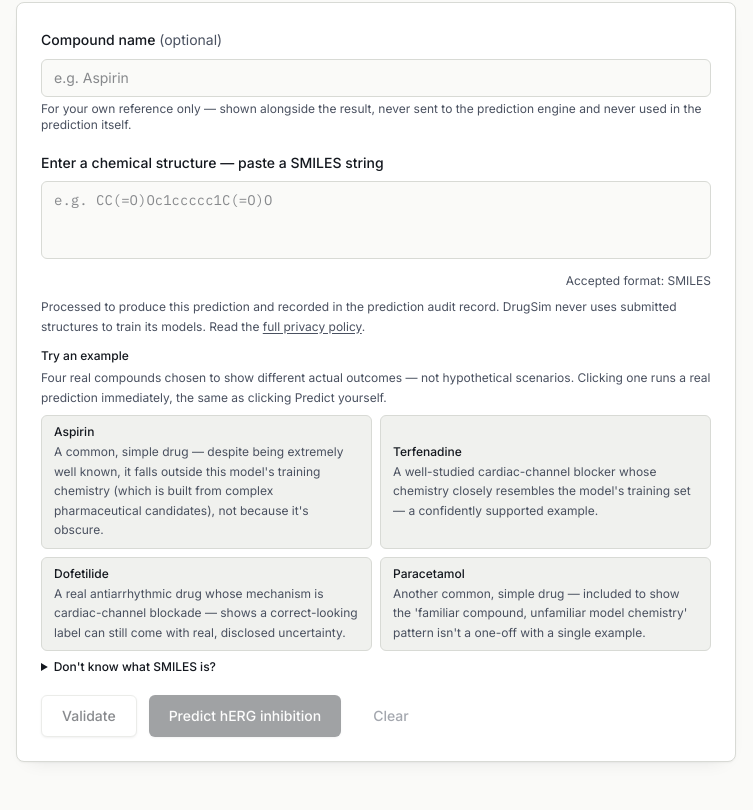
Test: PredictPage › clicking an example runs a real prediction immediately -- no extra Validate/Predict clicks needed
(page scrolled)
Click the button with aria-label "A common, simple drug — despite being extremely well known," at (206, 482), box [41,415,372,548]
(page scrolled)
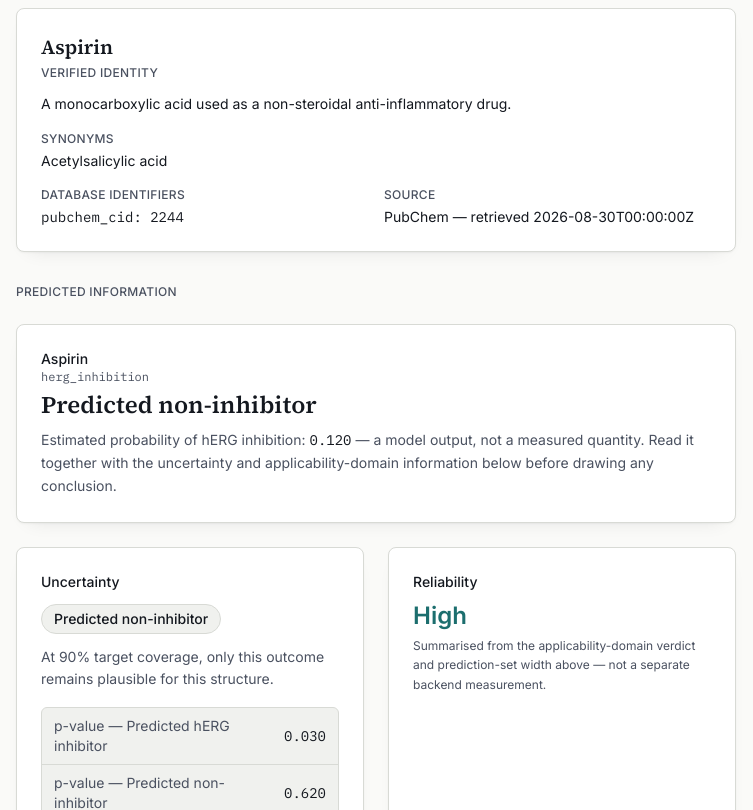
Check: the heading "Predicted non-inhibitor" is shown, box [41,388,317,421]
